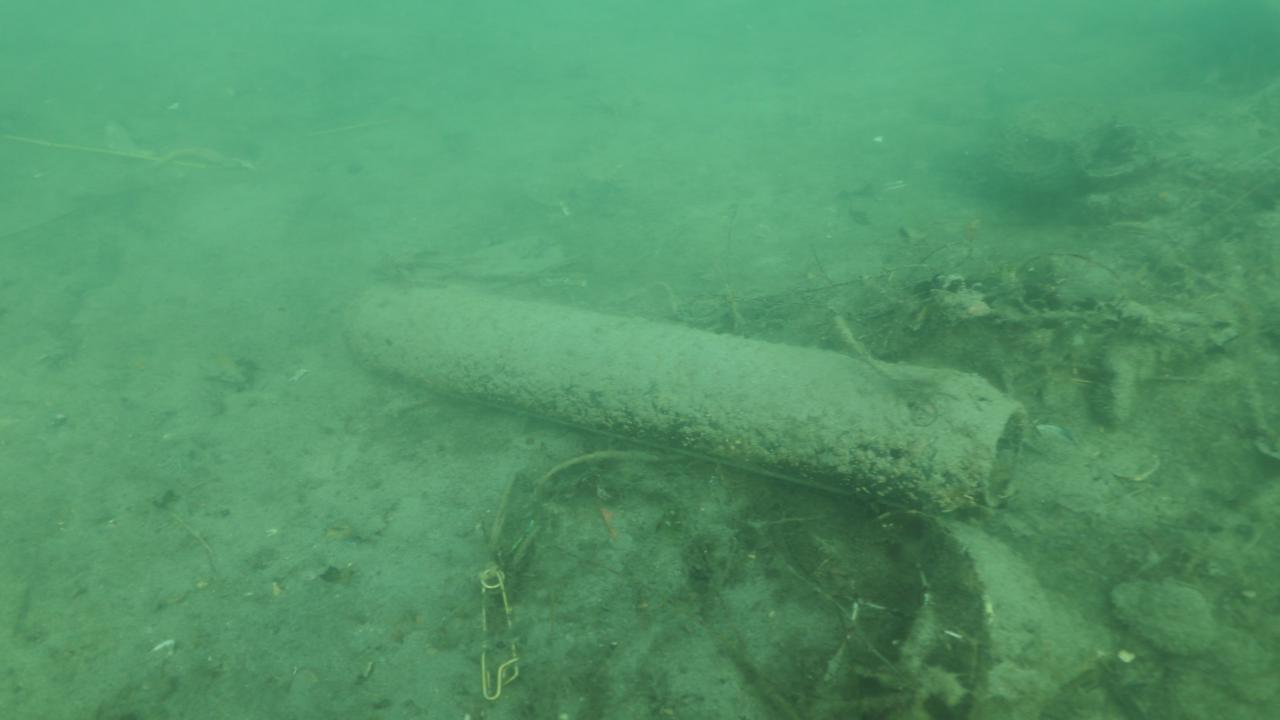eel fish trap: (338, 278, 1026, 512)
